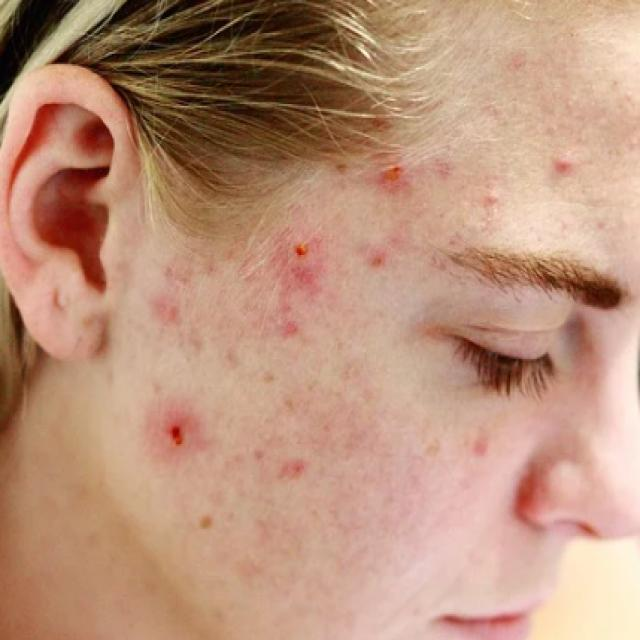Acne: (335, 412, 481, 600), (190, 490, 323, 623), (240, 301, 389, 380), (272, 226, 364, 316), (439, 421, 540, 494), (255, 412, 331, 504), (140, 263, 226, 342), (156, 392, 218, 475), (433, 159, 507, 227), (360, 230, 428, 303), (373, 150, 423, 210), (586, 210, 633, 265), (553, 147, 597, 205)
